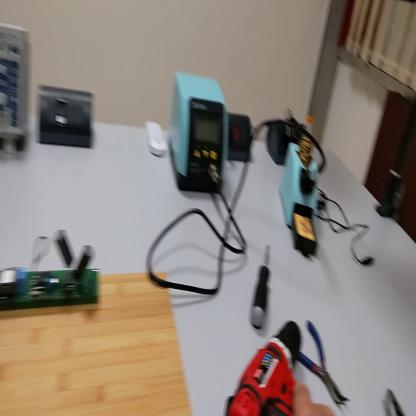electric screwdriver: (230, 325, 310, 416)
hand: (292, 378, 335, 415)
high voltage board: (2, 236, 100, 312)
oscilloscope: (2, 26, 33, 155)
pliers: (292, 312, 349, 407), (387, 387, 406, 415)
screwdriver-: (252, 245, 271, 330)
socket: (267, 113, 306, 166), (227, 113, 255, 169)
welder base: (279, 118, 323, 257)
welder probe tip: (302, 163, 316, 194)
welder station: (171, 75, 227, 201)
working area: (2, 276, 190, 414)
